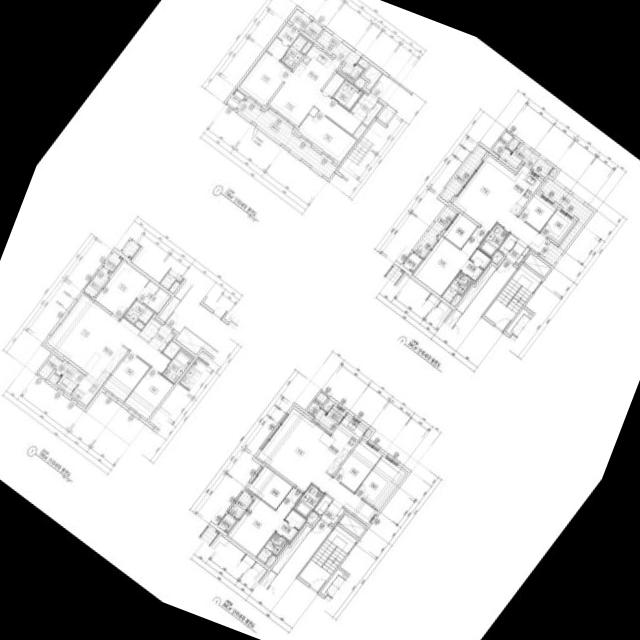background: (0, 0, 640, 640)
space_balconi: (236, 98, 337, 179), (539, 178, 593, 266), (439, 145, 487, 203), (315, 30, 363, 80), (413, 206, 455, 257), (499, 143, 552, 178), (55, 360, 84, 394), (313, 405, 345, 434), (83, 266, 110, 297), (228, 490, 253, 519), (288, 9, 310, 30)
space_bedroom: (228, 487, 302, 557), (413, 226, 487, 296), (94, 261, 149, 318), (297, 111, 356, 162), (239, 51, 291, 106), (355, 456, 405, 510), (124, 367, 173, 419), (333, 440, 381, 492), (103, 351, 149, 401), (518, 193, 556, 231), (540, 209, 573, 241)
space_dressroom: (266, 25, 298, 60), (136, 281, 170, 313), (276, 509, 306, 541), (461, 249, 490, 280)
space_front: (349, 92, 382, 125), (148, 323, 174, 352), (320, 499, 345, 525), (506, 238, 530, 264)
space_kitchen: (71, 338, 128, 406), (311, 415, 366, 475), (496, 165, 541, 216), (293, 45, 341, 90)
space_living_room: (257, 408, 376, 524), (46, 294, 170, 373), (452, 155, 547, 252), (268, 70, 361, 134)
space_multipurpose_space: (248, 466, 292, 509), (443, 213, 477, 248)
space_other: (455, 264, 496, 314), (270, 525, 311, 574), (524, 253, 550, 277), (339, 514, 365, 538), (38, 354, 62, 379), (158, 296, 180, 322), (322, 72, 344, 97), (138, 318, 160, 342), (306, 392, 327, 416), (491, 131, 512, 155), (363, 65, 381, 90), (313, 494, 332, 515), (498, 233, 517, 254), (377, 104, 395, 124), (303, 21, 322, 39), (162, 341, 180, 359), (352, 123, 366, 139), (306, 511, 318, 524), (507, 138, 519, 151), (491, 250, 503, 263), (357, 57, 369, 69), (353, 77, 365, 89), (265, 554, 276, 567), (300, 42, 311, 54), (450, 294, 461, 306), (322, 401, 333, 412), (49, 373, 59, 383), (134, 320, 144, 329), (548, 168, 557, 177), (363, 429, 370, 437)
space_outdoor_room: (103, 251, 123, 272), (402, 252, 421, 272), (217, 513, 236, 533), (226, 89, 244, 108)
space_staircase: (299, 525, 357, 591), (484, 265, 542, 330)
space_toilet: (478, 223, 509, 257), (293, 484, 324, 518), (161, 350, 192, 383), (441, 271, 472, 303), (256, 532, 287, 563), (332, 79, 362, 110), (280, 35, 307, 69), (123, 299, 154, 324)
